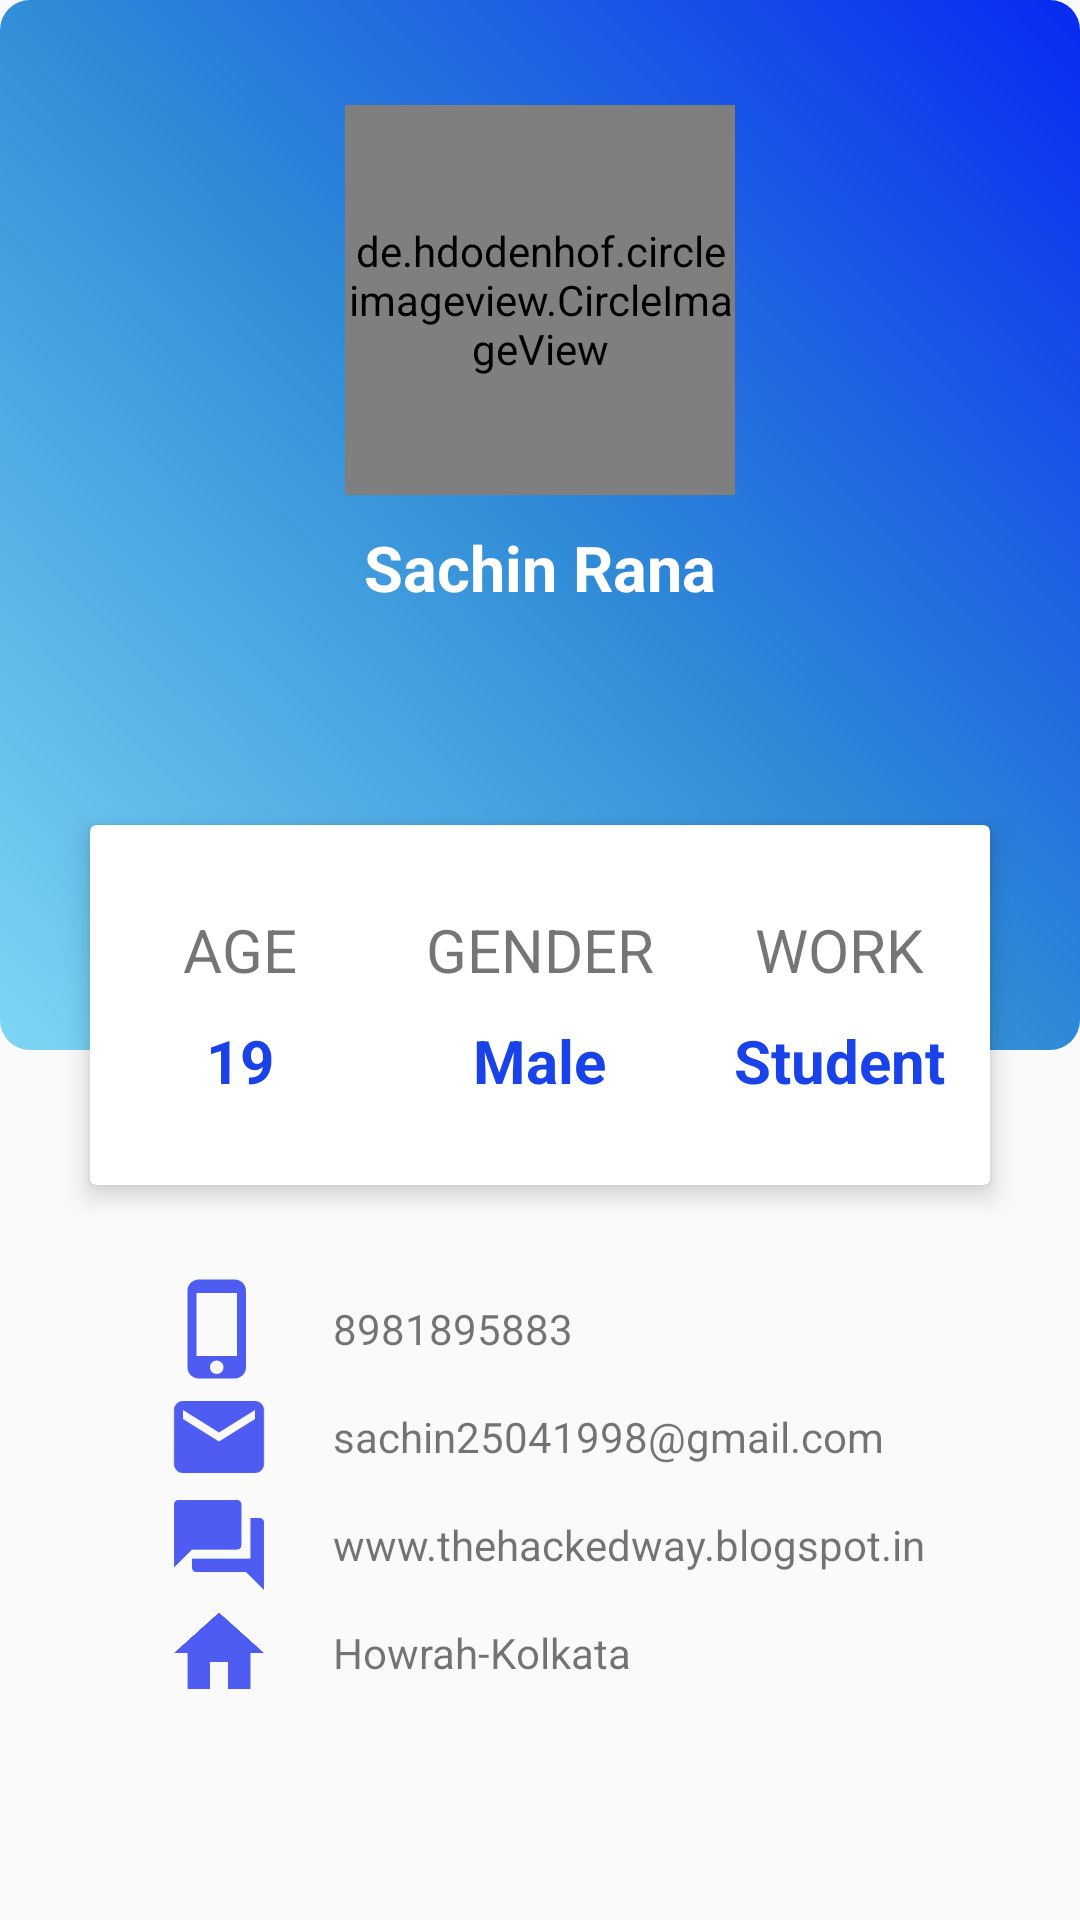

Icon click points for this 1080 × 1920 phone screenshot, format (x,y):
email: (219,1437)
home: (219,1651)
phone iphone: (216,1329)
